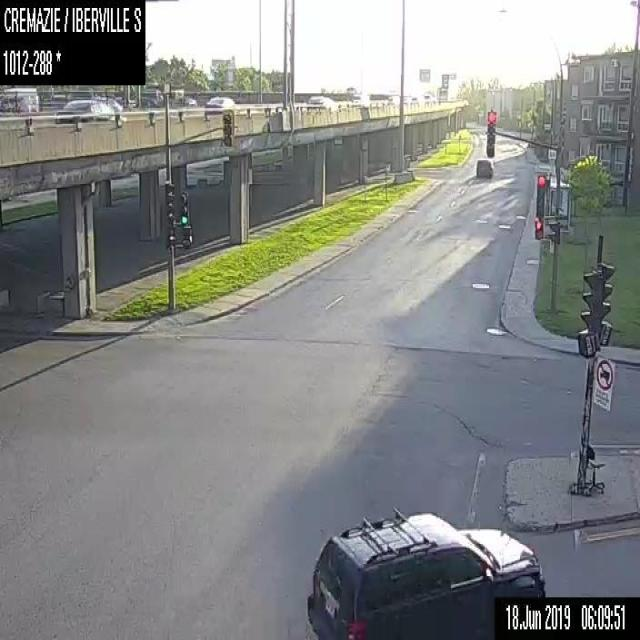vehicle: (306, 508, 548, 639), (54, 94, 121, 122), (0, 85, 38, 112), (204, 95, 236, 114), (140, 86, 164, 106), (475, 156, 493, 179), (307, 92, 334, 105), (350, 92, 370, 107), (422, 94, 435, 104), (388, 94, 400, 104), (410, 95, 420, 105), (402, 95, 410, 105)
